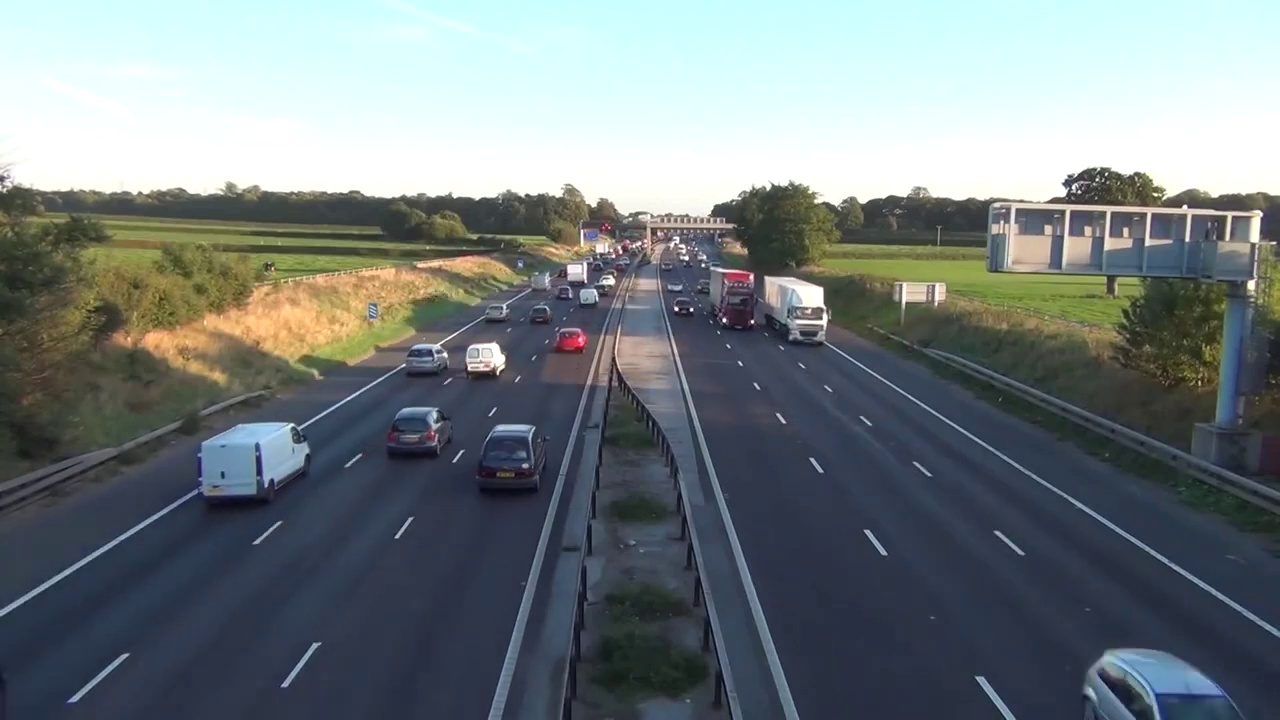bus: (1079, 649, 1243, 720), (477, 424, 549, 495), (387, 407, 453, 459), (406, 344, 449, 374), (555, 327, 587, 353), (529, 305, 553, 324), (484, 304, 510, 321), (673, 297, 694, 316), (555, 286, 572, 300), (666, 280, 682, 292), (697, 280, 709, 292)
car: (763, 276, 832, 343), (710, 268, 755, 330), (567, 263, 587, 284)
lorry: (197, 423, 311, 499), (465, 343, 507, 378), (579, 288, 598, 306)
